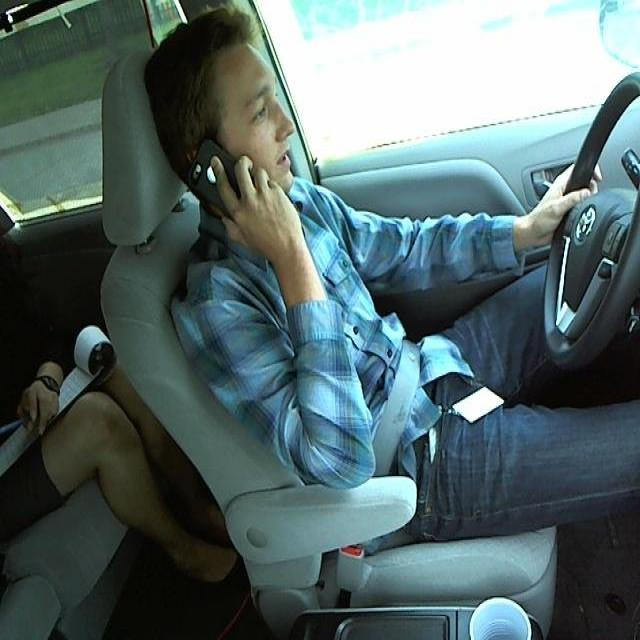using_phone: (128, 8, 362, 290)
